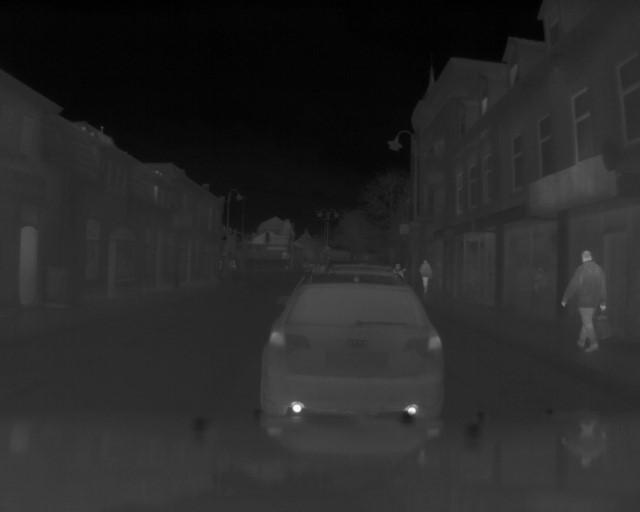car: (262, 273, 448, 425)
person: (557, 249, 613, 359), (417, 256, 430, 290)
